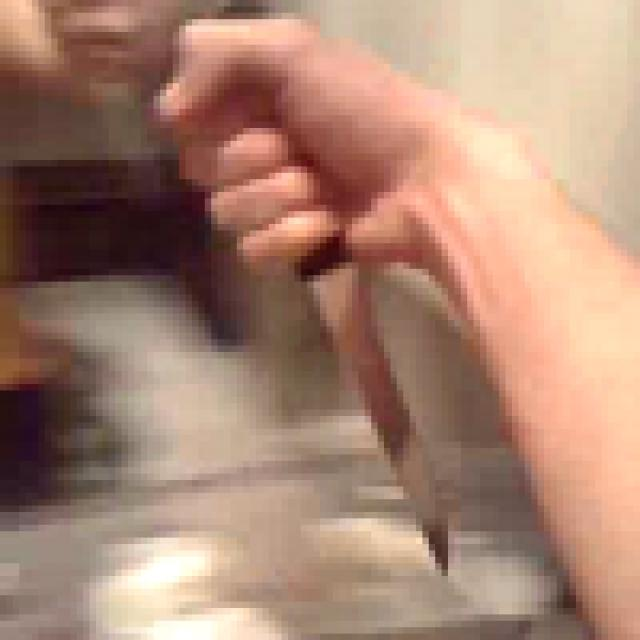Weapons: (292, 229, 448, 568)
